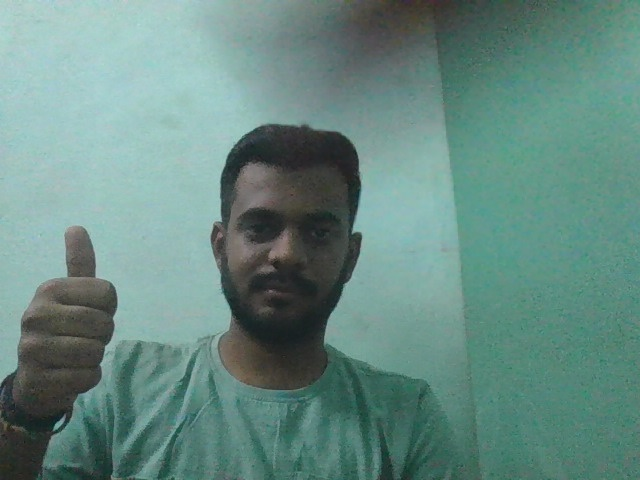yes: (17, 218, 129, 434)
